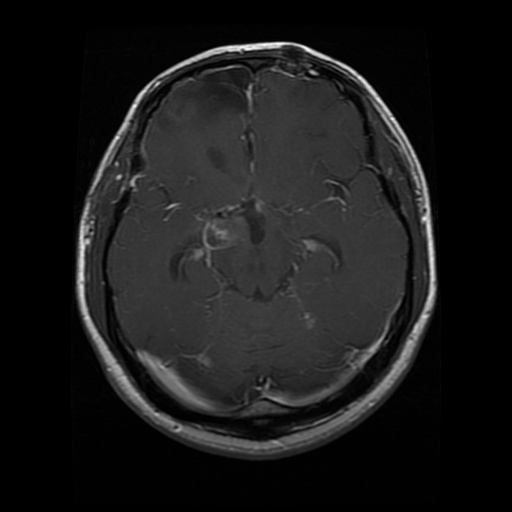glioma: (154, 66, 248, 130)
